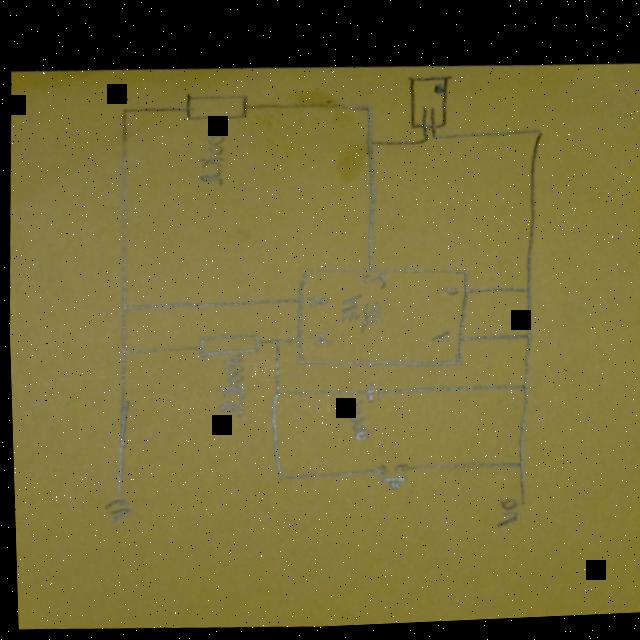capacitor: (361, 384, 382, 406)
junction: (531, 130, 544, 141), (520, 288, 532, 299), (517, 385, 528, 395), (520, 335, 531, 344), (363, 141, 375, 149), (271, 475, 283, 483), (513, 463, 523, 472), (116, 303, 126, 312), (115, 347, 125, 356), (362, 107, 372, 115), (269, 338, 279, 346), (269, 391, 279, 398), (120, 106, 128, 114), (419, 138, 427, 145), (428, 136, 436, 142)
resistor: (182, 90, 250, 123), (196, 332, 258, 358)
switch: (403, 76, 452, 133), (370, 463, 407, 493)
terminal: (111, 489, 121, 496), (515, 503, 523, 510)
text: (214, 353, 247, 419), (197, 122, 226, 187), (337, 294, 380, 335), (343, 401, 367, 443), (491, 499, 516, 530), (99, 497, 130, 522), (358, 274, 385, 292), (428, 331, 451, 346), (304, 295, 326, 309), (432, 287, 456, 299), (306, 333, 326, 347)
